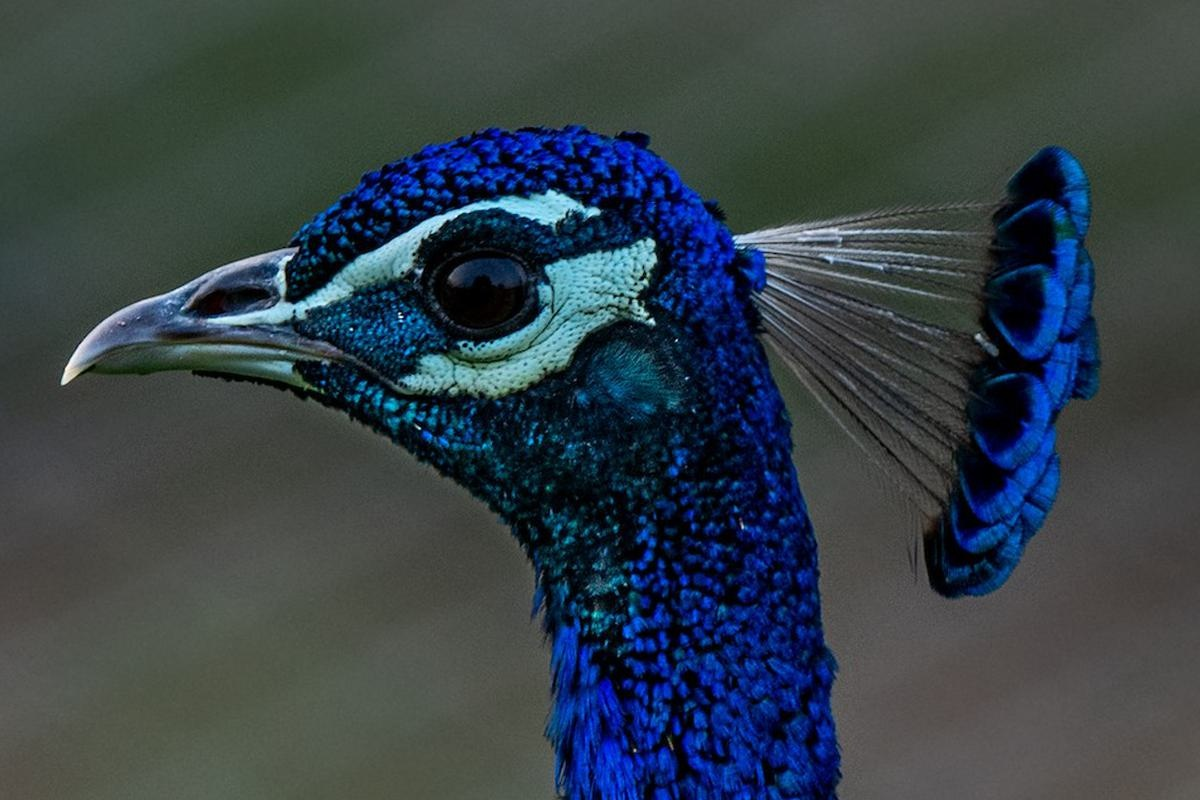peacock: (68, 114, 1134, 800)
